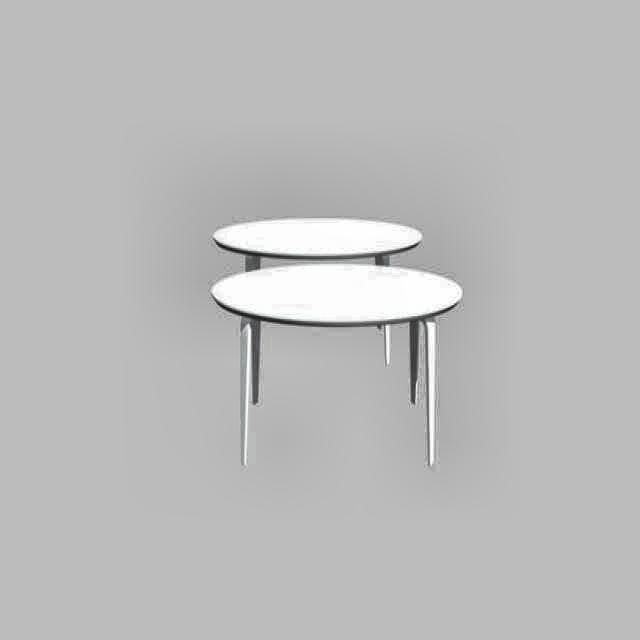mesa: (212, 214, 462, 467)
